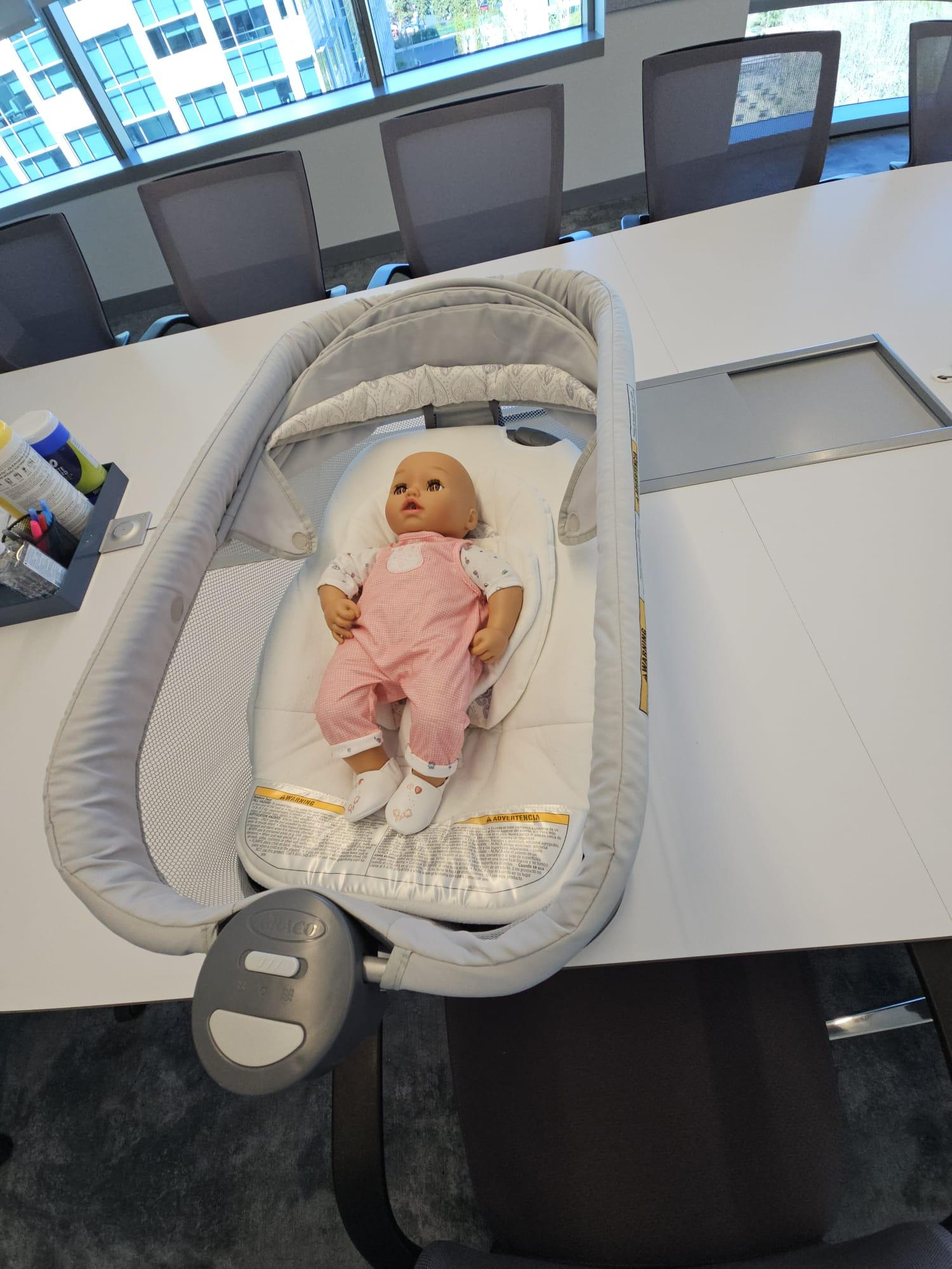baby: (298, 422, 541, 853)
